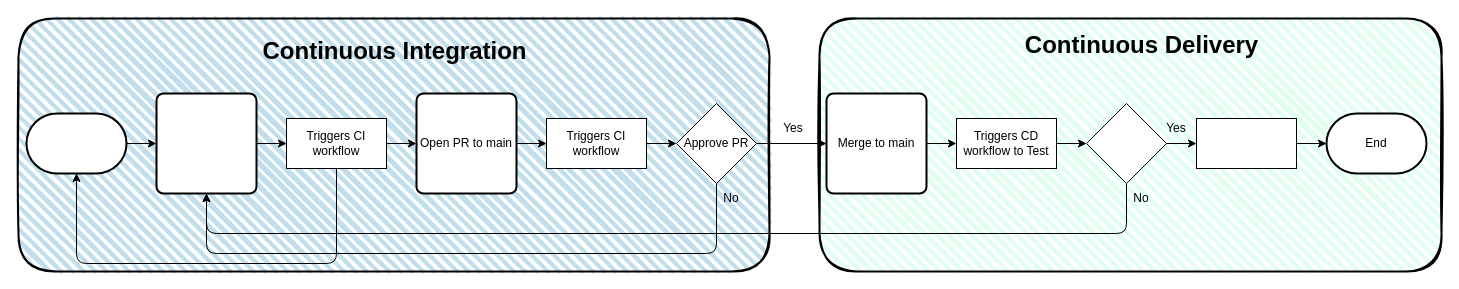
Image size: 1459x289. Some labels were removed from this diagram. Here are the shapes that lost their labels. From the top down, the centre of each, then its label:
the point at 76,143: Start
the point at 206,143: Developer works on a feature branch and commits changes
the point at 1126,143: Manual Approval
the point at 1246,143: Resume CD workflow to Prod
